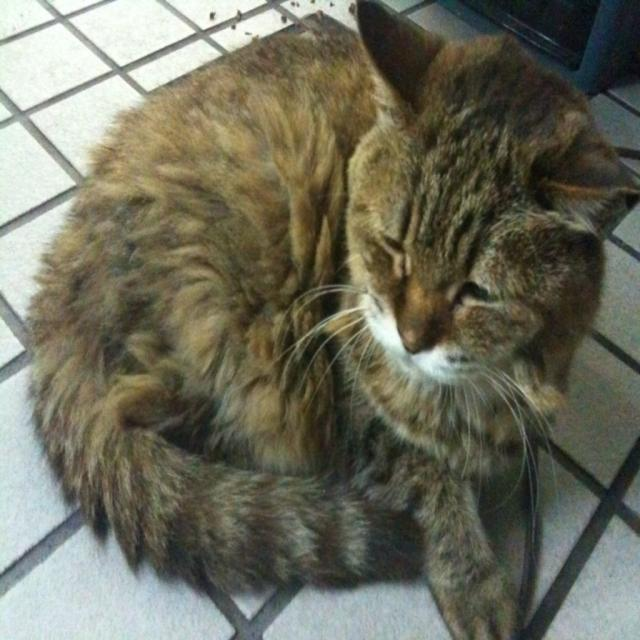Cat: (25, 0, 640, 639)
